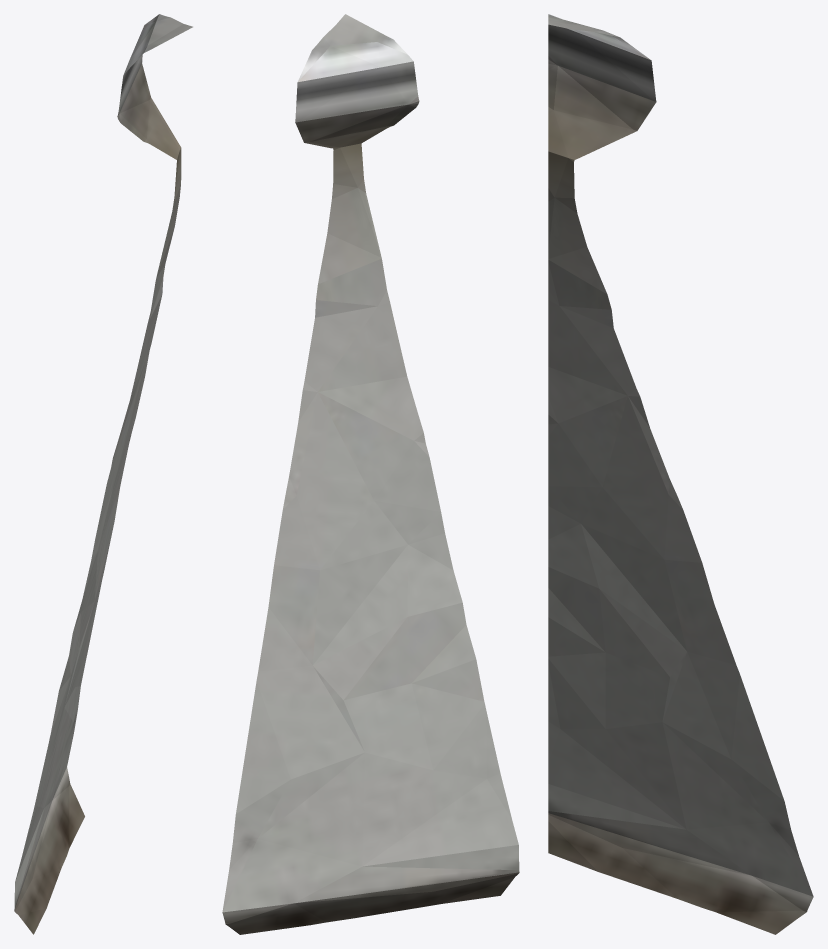
3 renders of one model, left to right at view 1: azimuth 30°, elevation 25°; view 2: azimuth 150°, elevation 25°; view 3: azimuth 270°, elevation 25°, orthographic. The views are drawn at different scales.
Bounding box in the file's own units: 0.1154 × 0.5342 × 0.1411.
1 material, 1 textured.
